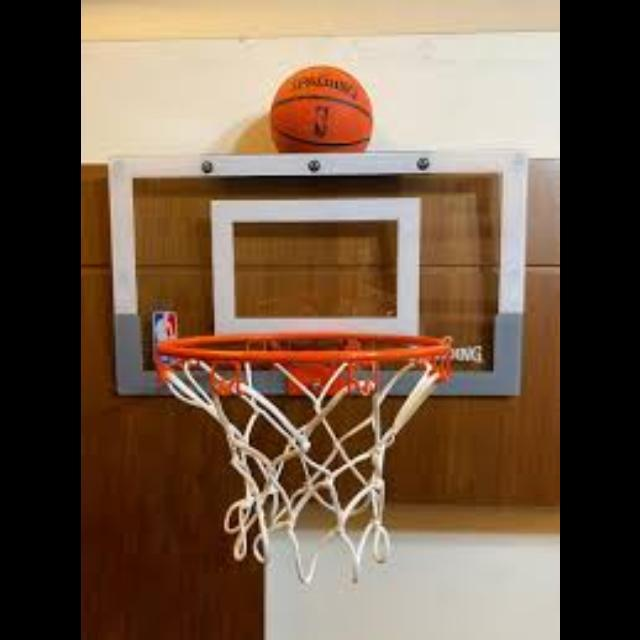basketball: (268, 65, 372, 161)
rim: (157, 329, 450, 583)
